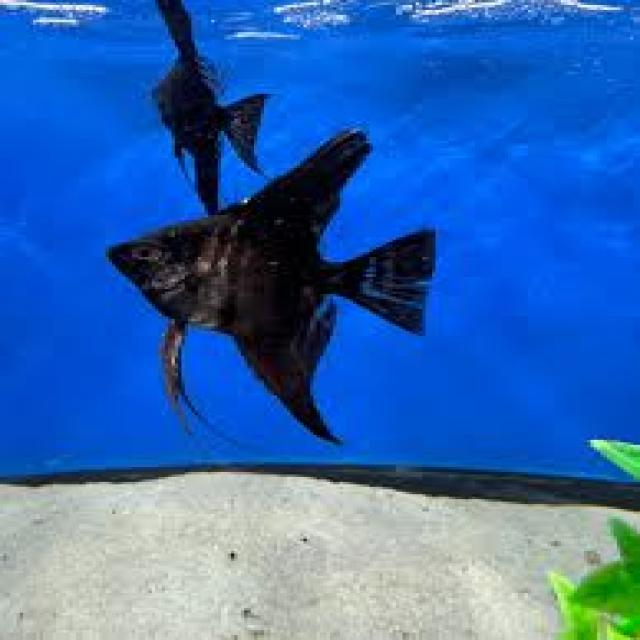AngelFish: (109, 134, 442, 445), (149, 0, 274, 211)
